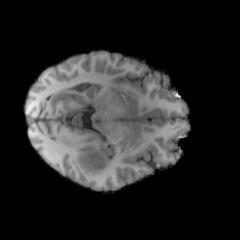glioma: (76, 149, 113, 173)
